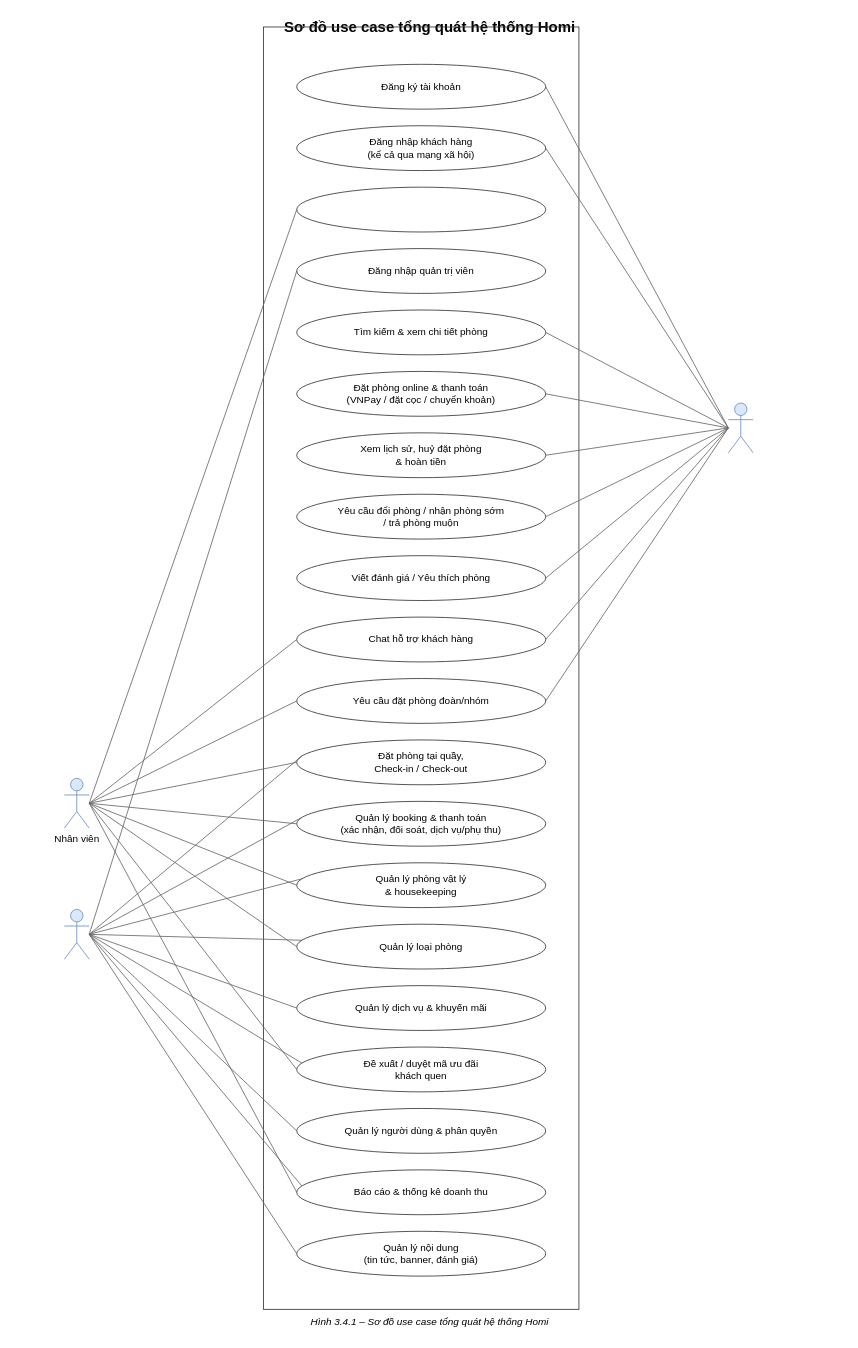
The diagram is 858 pixels wide and 1348 high, and some of its shapes have lost their labels. The shapes that lost their labels are listed below. From the top down, each one's box as (x1, y1, x2, y2) in pixels, then its label:
(296, 186, 546, 232): Đăng nhập nhân viên
(727, 402, 753, 453): Khách hàng
(263, 26, 579, 1309): Hệ thống Homi Hotel Booking
(63, 909, 89, 959): Quản trị viên
